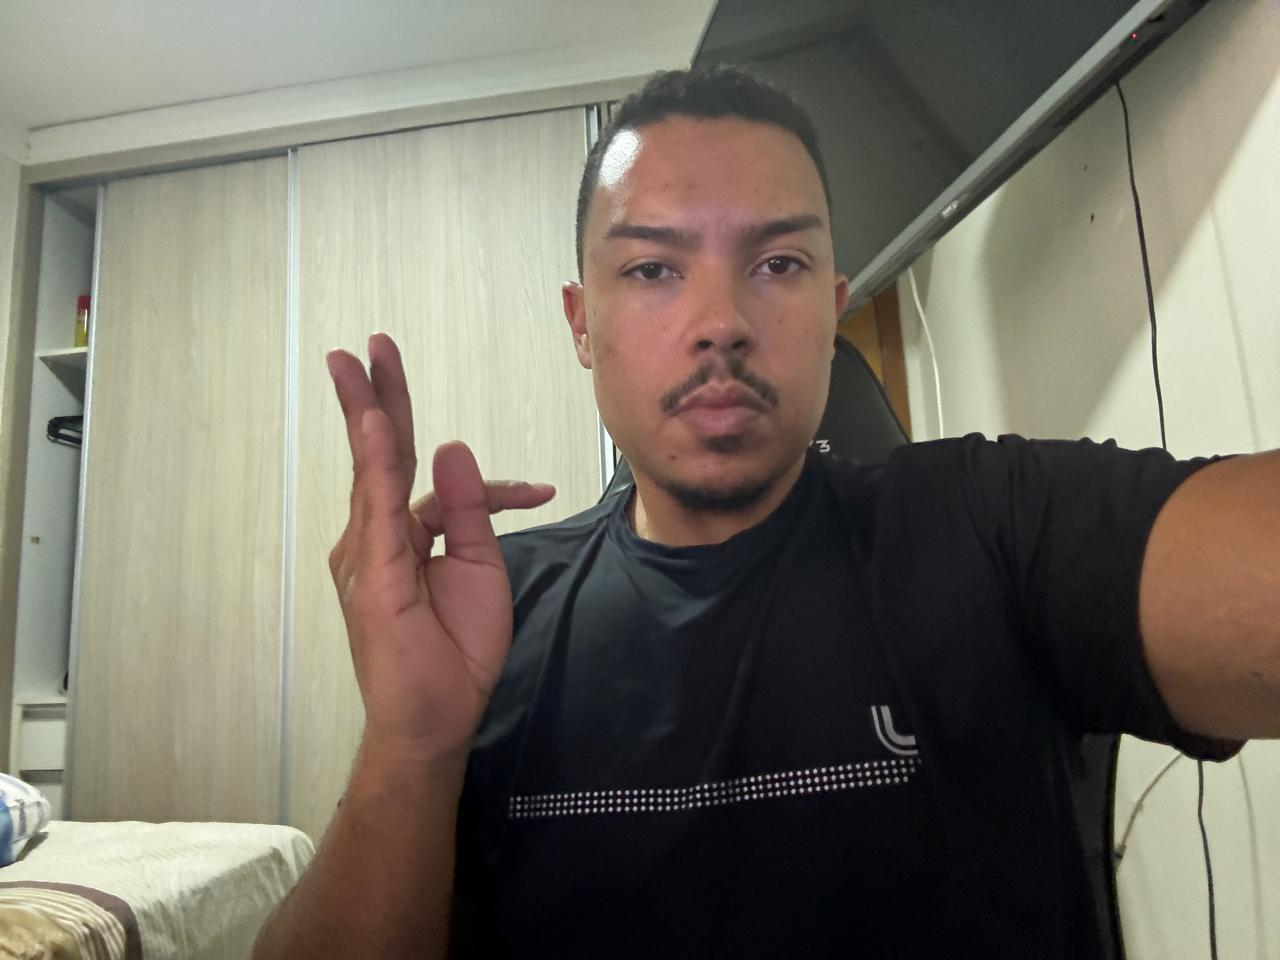t: (292, 326, 566, 775)
